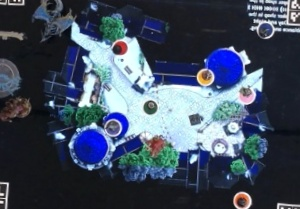blue: (255, 20, 276, 40)
green: (140, 97, 161, 117)
orange: (232, 188, 253, 209)
pink: (237, 85, 256, 105)
red: (112, 38, 130, 55)
violet: (101, 115, 126, 137)
yellow: (197, 66, 216, 87)
